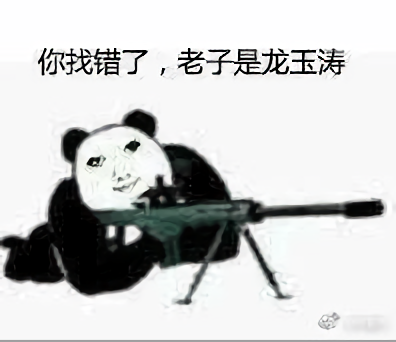dragon: (86, 139, 150, 196)
